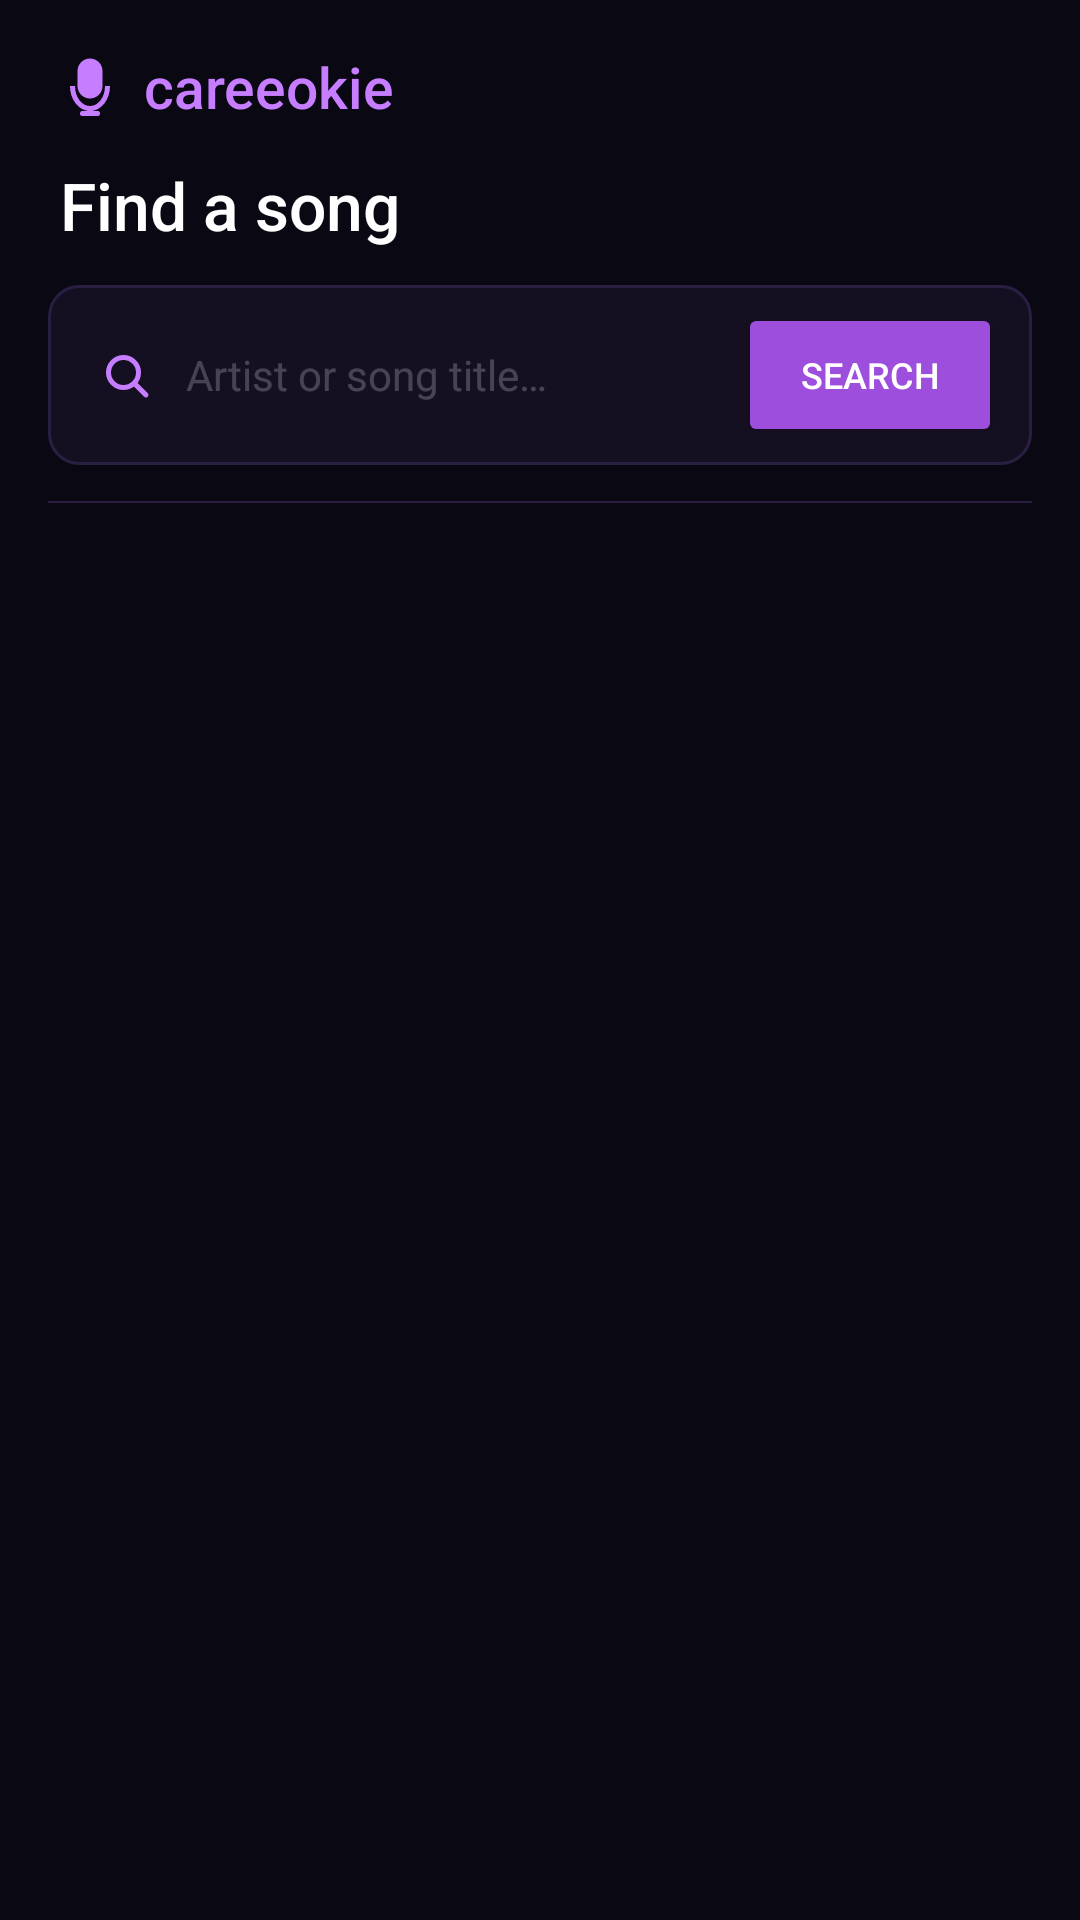

Where to tap for icons on this 1080 × 1920 app screen, as point (x, y):
Search: point (127, 376)
